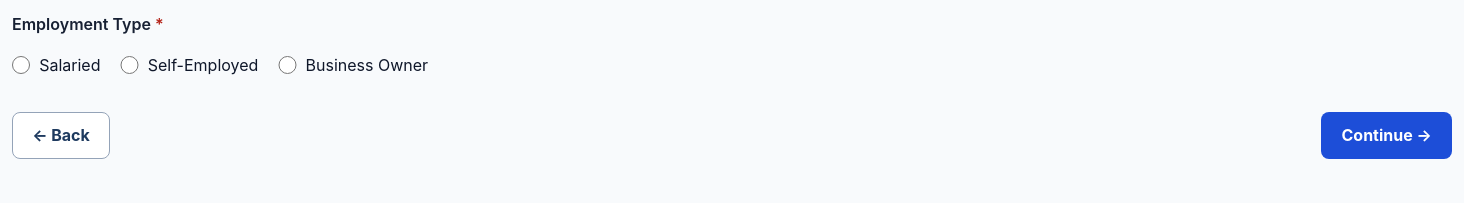
Test case: Step 5 Employment › renders and requires Employment Type only after submit
This screenshot has width=1464, height=203.
Check: the element "Employment Type * Salaried Self-Employed Business Owner" is shown, box [12,13,428,75]
Check: the text "Employment Type is required" is not shown
Click the button "Continue →" at [1387, 135], box [1321,112,1452,159]
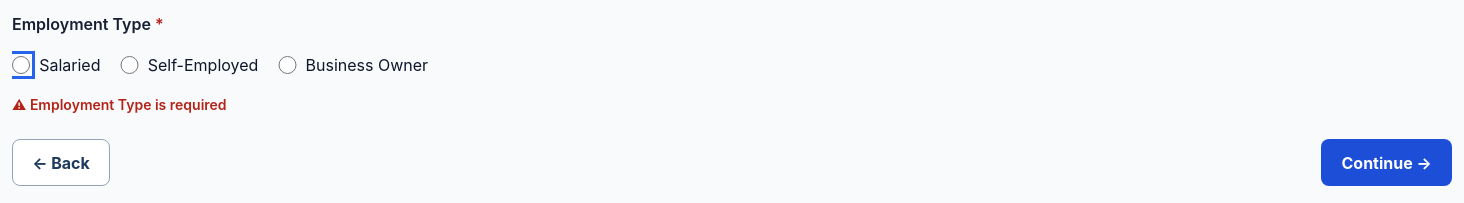
Check: the text "Employment Type is required" is shown, box [30,96,227,113]
